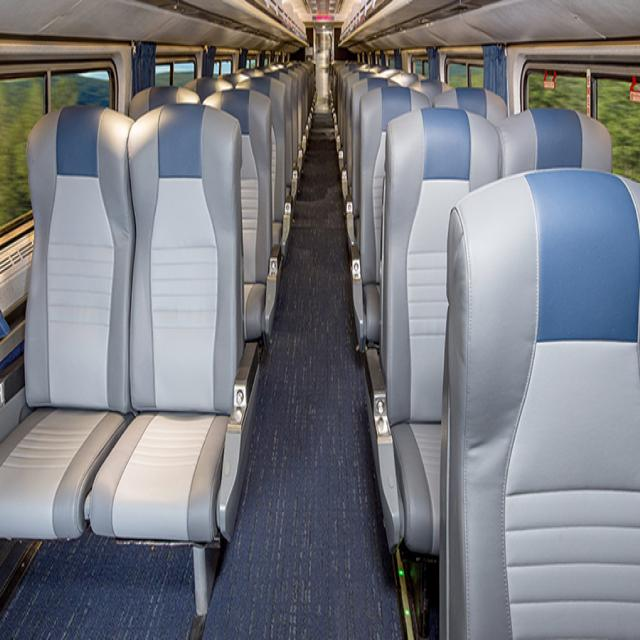empty-seat-frontal: (90, 104, 249, 550), (0, 104, 137, 545)
